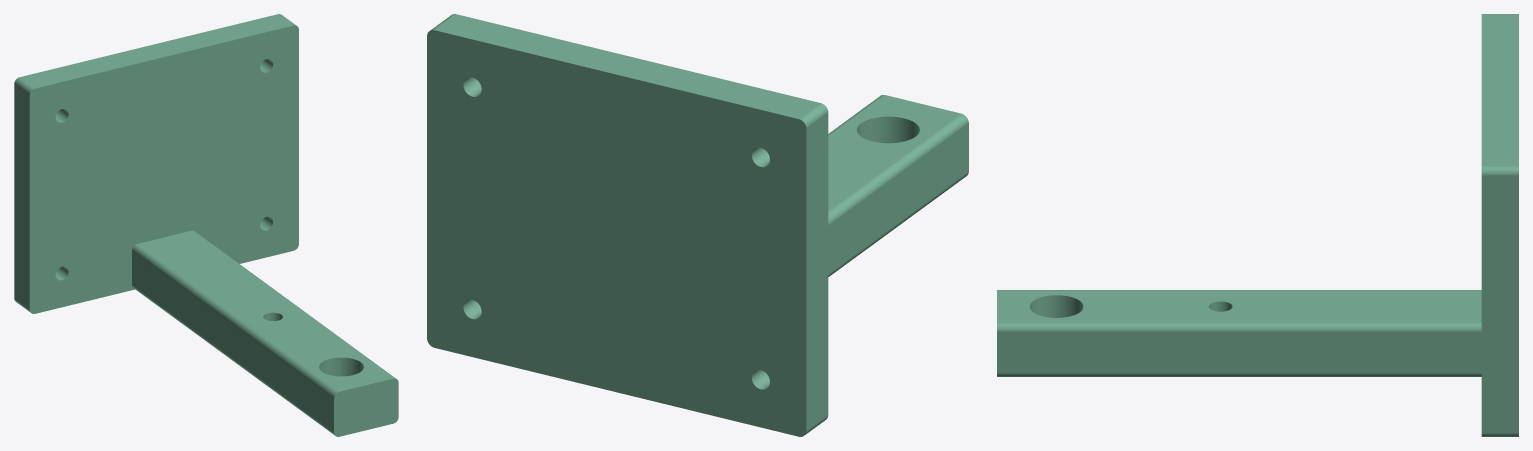
3 views of the same model, side by side, from view 1: azimuth 30°, elevation 25°; view 2: azimuth 150°, elevation 25°; view 3: azimuth 270°, elevation 25° (orthographic). The views are drawn at different scales.
Parts seen in each view (by area): view 1: F11_dancer_pivot_post; view 2: F11_dancer_pivot_post; view 3: F11_dancer_pivot_post.
Boxes of the visible parts, left/top/right/bottom form: F11_dancer_pivot_post: left=14, top=14, right=398, bottom=436; F11_dancer_pivot_post: left=427, top=14, right=968, bottom=436; F11_dancer_pivot_post: left=997, top=14, right=1518, bottom=436.
Size of the model in its own units: 50 by 40 by 70.
